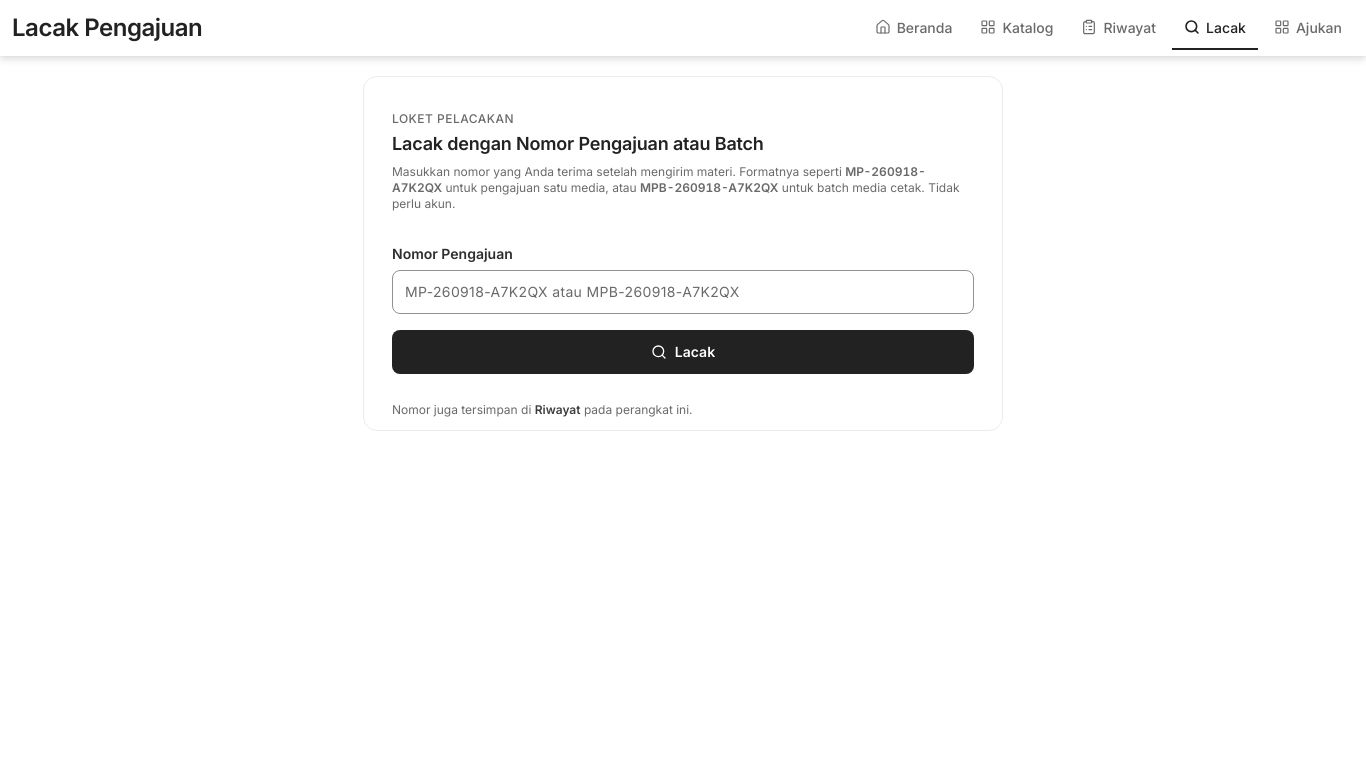
Test case: TrackSubmissionPage - jalur batch › nomor pengajuan MP- tetap ke jalur pengajuan
Type "MP-260918-A7K2QX" into the field labelled "Nomor Pengajuan". click: [683, 292]
box: [392,270,974,314]
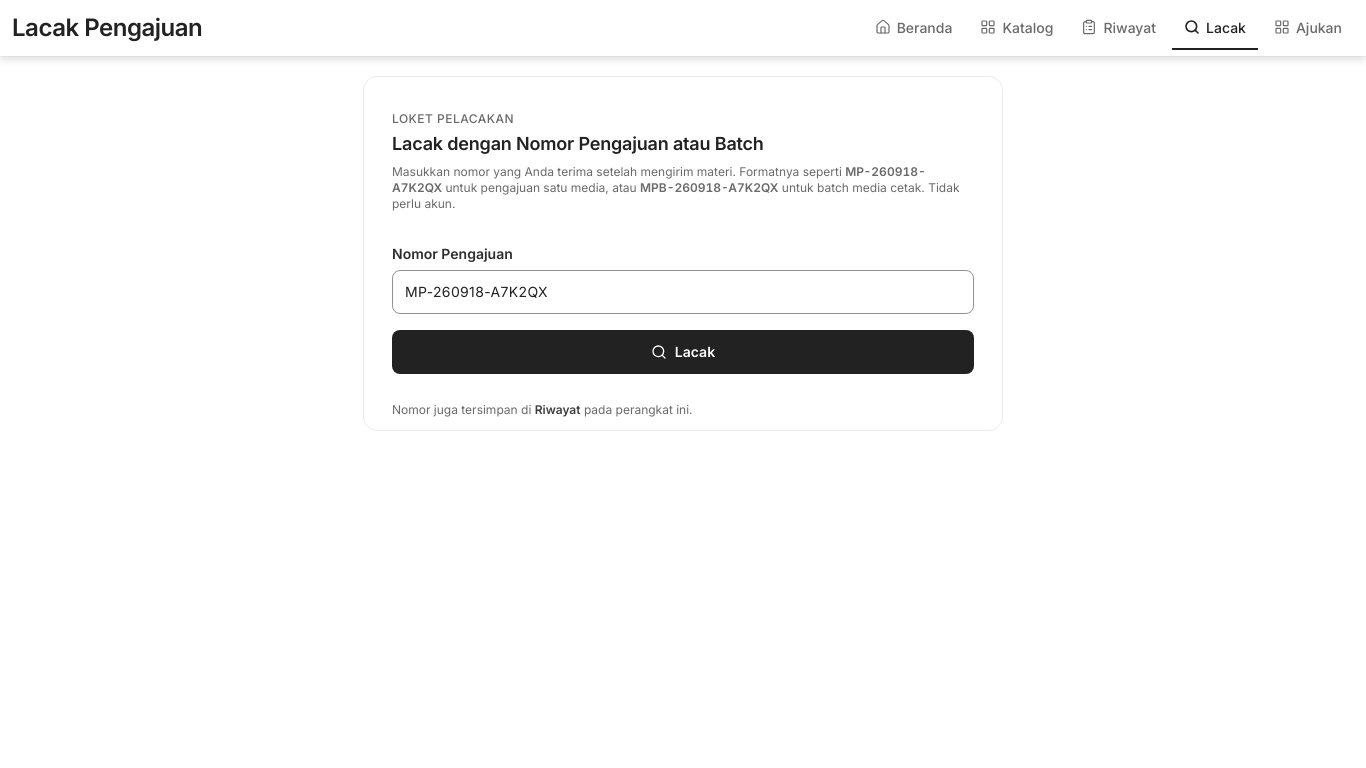
Click the button "Lacak". click: [683, 352]
box: [392,330,974,374]
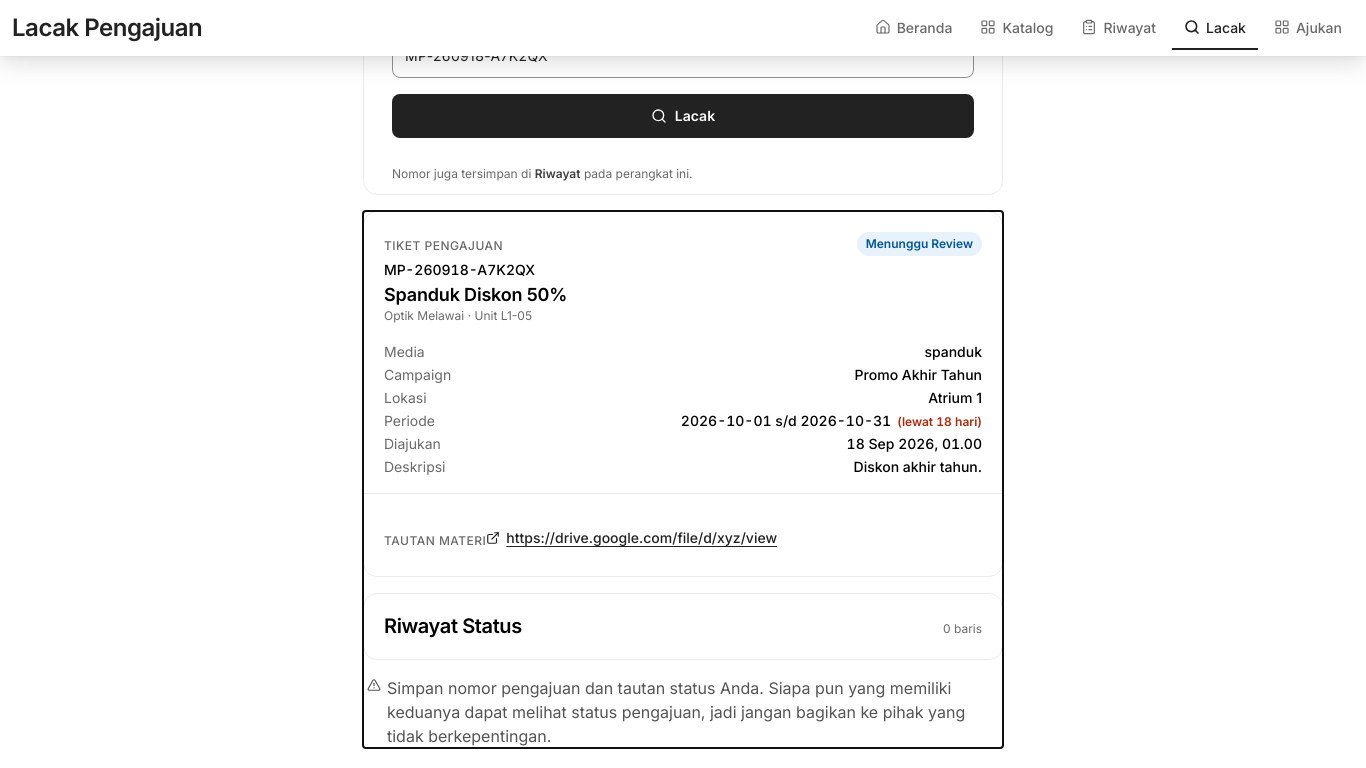
Check: the heading "Spanduk Diskon 50%" is shown, box [384,284,567,306]
